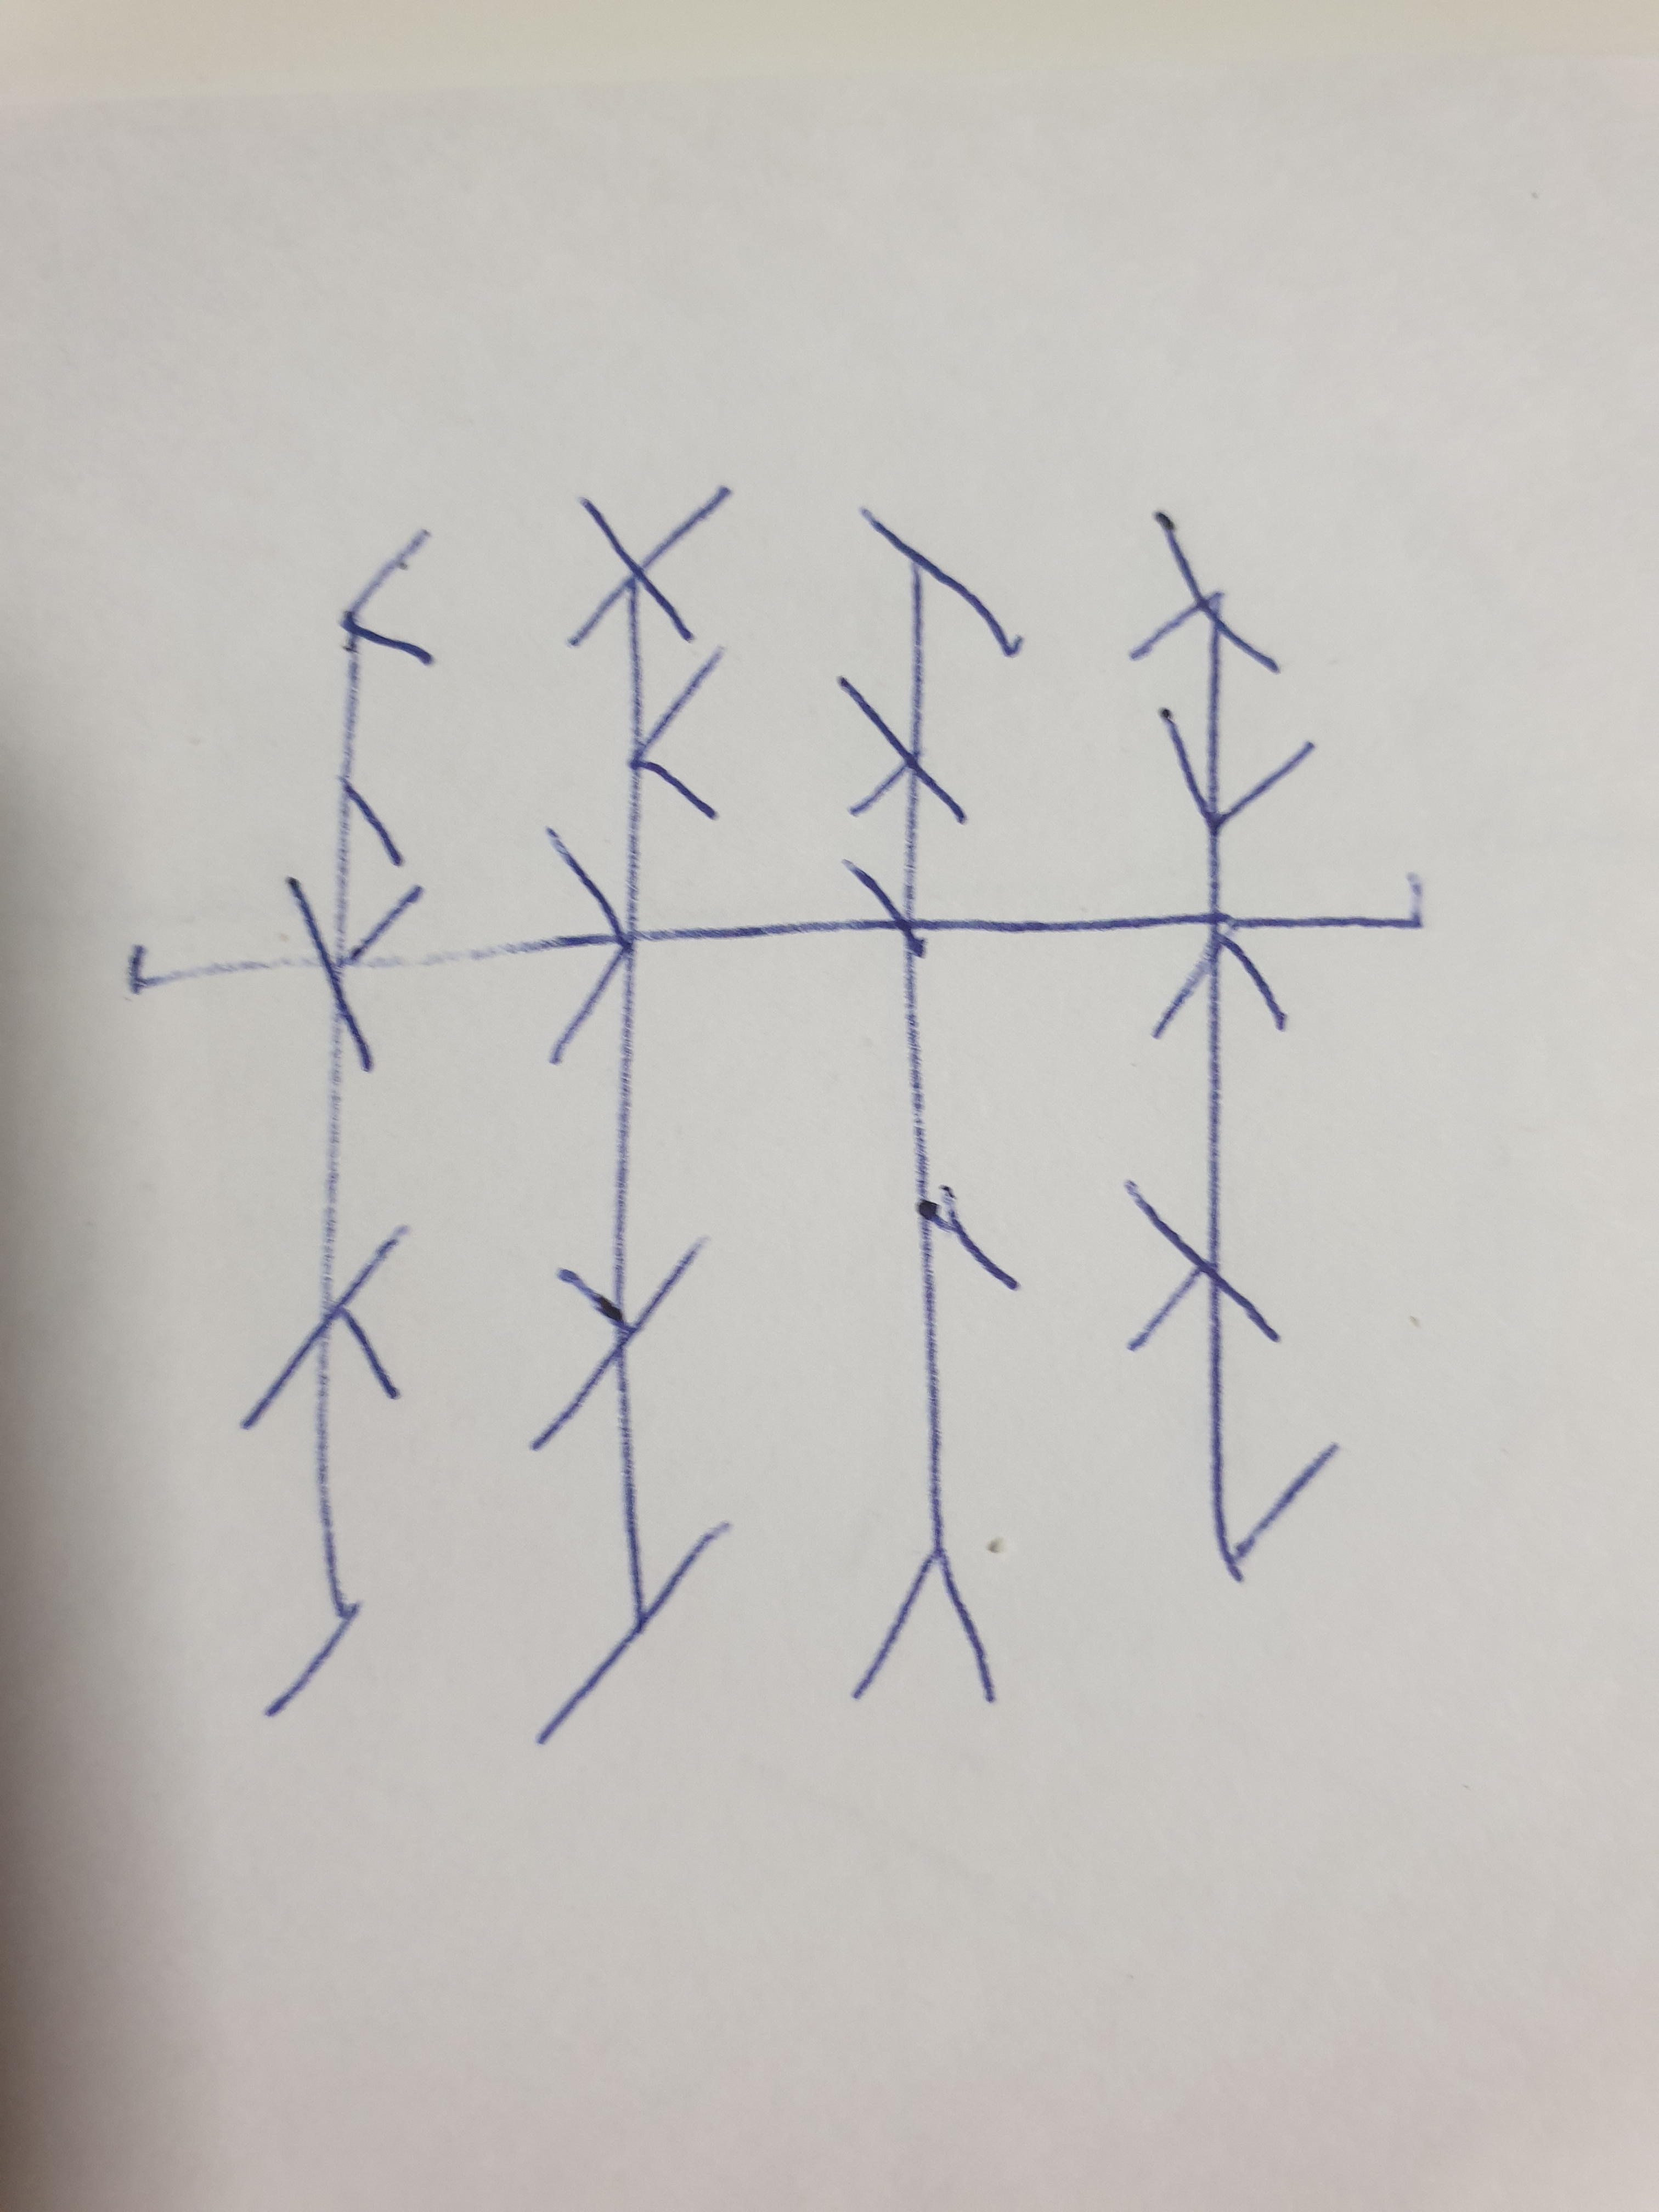Bar: (528, 486, 732, 1740), (1121, 510, 1340, 1580), (240, 526, 436, 1716), (835, 505, 1028, 1702)
Barcode: (124, 482, 1427, 1740)
End: (1234, 873, 1424, 932)
Start: (122, 941, 308, 1001)
